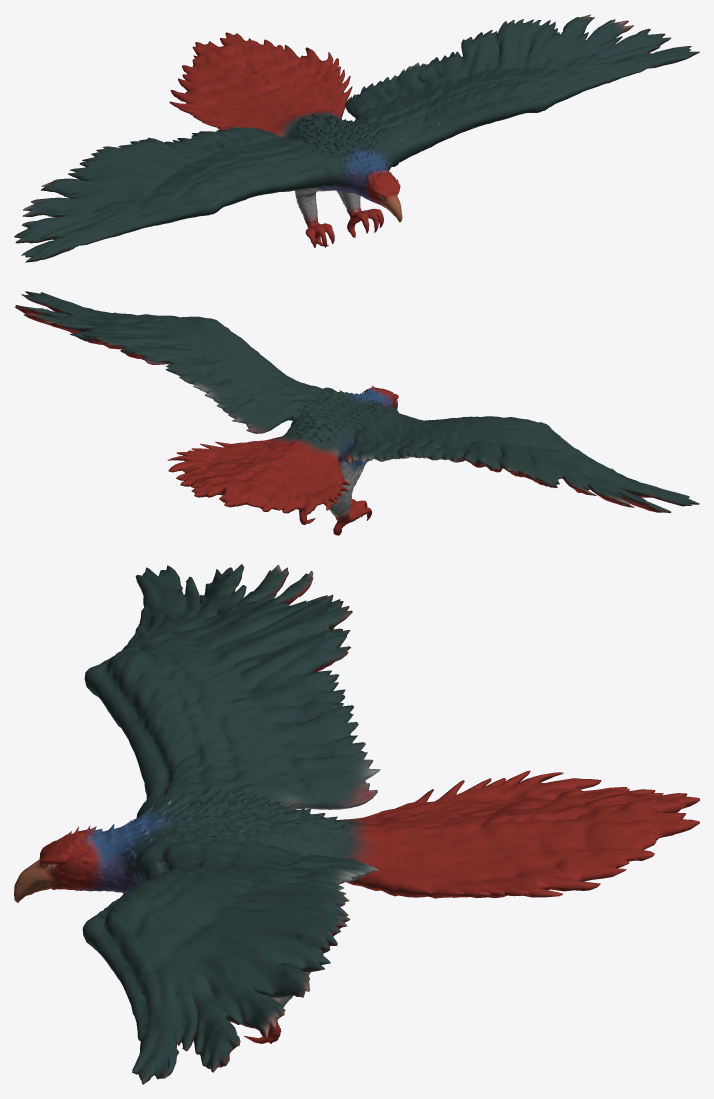
Rendered from MZ4250 - Roc.glb.
3 renders of one model, top to bottom at view 1: azimuth 30°, elevation 25°; view 2: azimuth 150°, elevation 25°; view 3: azimuth 270°, elevation 25°, orthographic. The views are drawn at different scales.
Parts seen in each view (by area): view 1: default; view 2: default; view 3: default.
Part boxes in pixels (x1,y1,x2,y2): default: (14, 14, 699, 262); default: (14, 291, 699, 535); default: (14, 564, 699, 1084).
Bounding box in the file's own units: 4.03 × 0.9002 × 1.95.
Materials: 1 (1 with a texture image).
